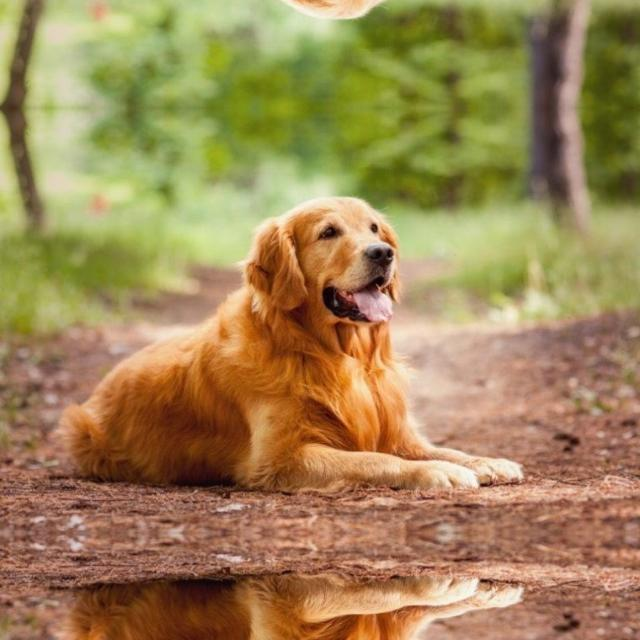dog: (52, 196, 540, 502), (52, 562, 539, 640), (52, 0, 539, 17)
